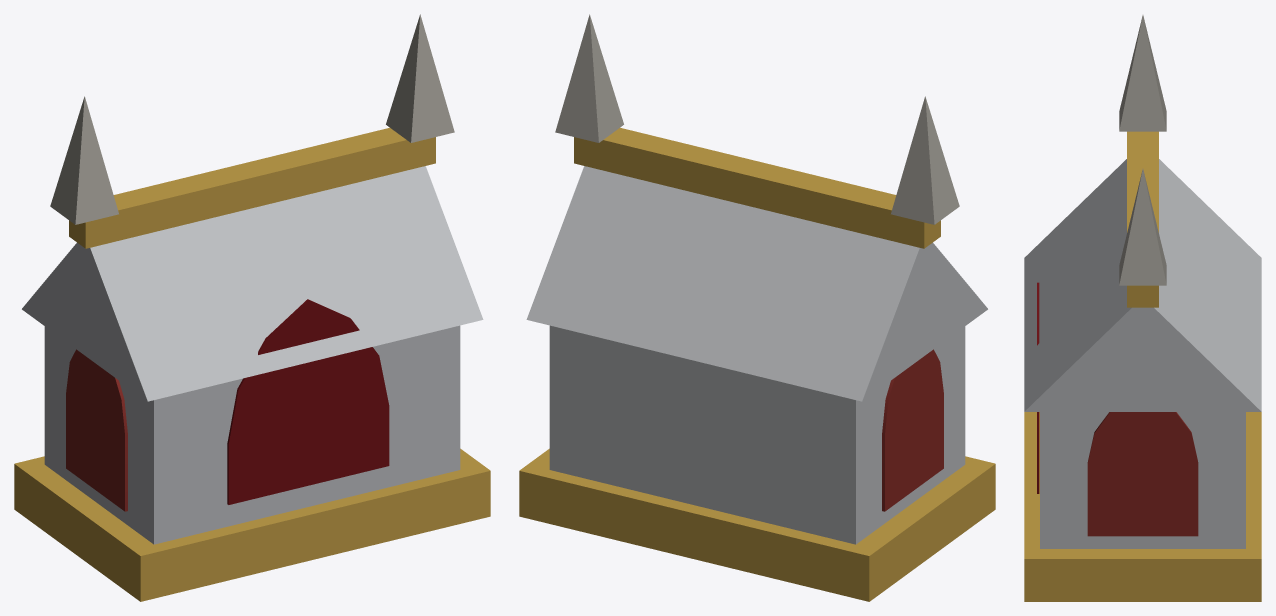
File: ReliquarySilver.fbx
3 views of the same model, side by side, from view 1: azimuth 30°, elevation 25°; view 2: azimuth 150°, elevation 25°; view 3: azimuth 270°, elevation 25° (orthographic). The views are drawn at different scales.
Visible parts, largest first — view 1: ReliquarySilver; view 2: ReliquarySilver; view 3: ReliquarySilver.
Part boxes in pixels (box(x1,y1,x2,y2)): ReliquarySilver: box(14, 14, 490, 601); ReliquarySilver: box(519, 14, 995, 601); ReliquarySilver: box(1024, 15, 1261, 601).
Bounding box in the file's own units: 0.52 × 0.6 × 0.3.
